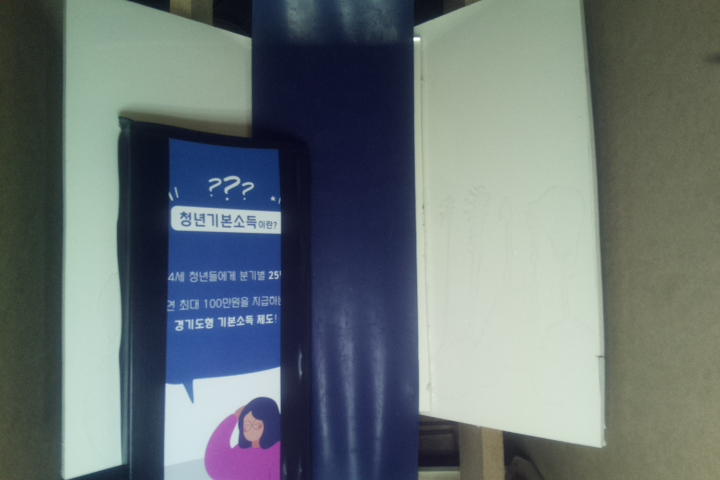book: (118, 116, 310, 480)
